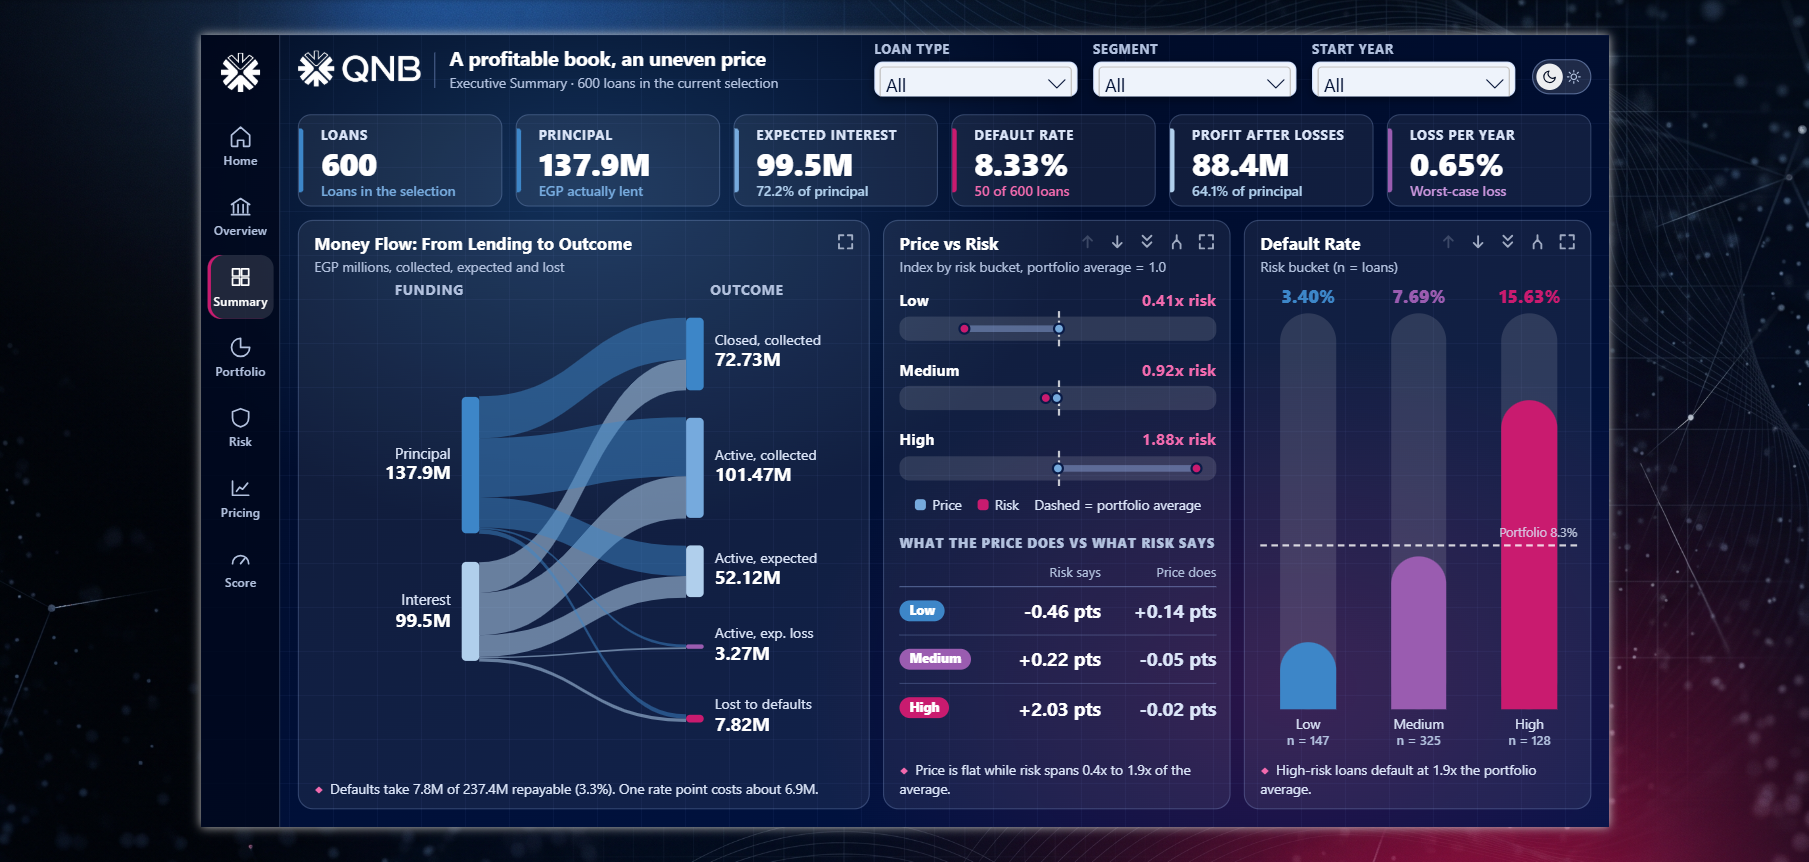

Layout of this report page (visuals, bound fields, positions):
{"tool":"powerbi","page":{"name":"Summary Page","canvas":[1280,720],"ordinal":2},"visuals":[{"type":"htmlContent443BE3AD55E043BF878BED274D3A6855","fields":{"content":["HTML Visuals.page_03_summary"]},"box":[0,0,1280,720],"z":0},{"type":"slicer","fields":{"Values":["dim_loan_type.loan_type"]},"box":[612,24,185,32],"z":101},{"type":"slicer","fields":{"Values":["dim_customer.segment"]},"box":[811,24,185,32],"z":102},{"type":"slicer","fields":{"Values":["fact_loan.start_year"]},"box":[1010,24,185,32],"z":103}]}

Visuals, with their boxes on the page's 1280x720 design canvas (x1, y1, x2, y2). These are canvas units, not pixel positions in the 1809x862 screenshot, which may show the page scaled, cropped or inside an application window:
htmlContent443BE3AD55E043BF878BED274D3A6855 - HTML Visuals.page_03_summary: select_region(0, 0, 1280, 720)
slicer - dim_loan_type.loan_type: select_region(612, 24, 797, 56)
slicer - dim_customer.segment: select_region(811, 24, 996, 56)
slicer - fact_loan.start_year: select_region(1010, 24, 1195, 56)
